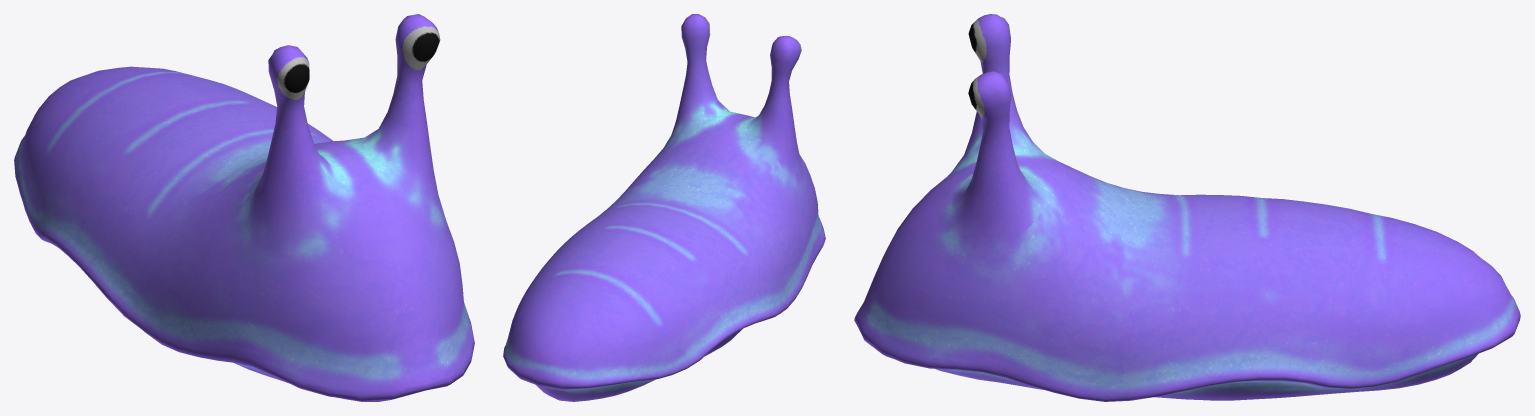
The model's file is Babosa.glb.
3 views of the same model, side by side, from view 1: azimuth 30°, elevation 25°; view 2: azimuth 150°, elevation 25°; view 3: azimuth 270°, elevation 25° (orthographic). The views are drawn at different scales.
Parts seen in each view (by area): view 1: Babosa; view 2: Babosa; view 3: Babosa.
Boxes of the visible parts, box(x1,y1,x2,y2) form: Babosa: box(14, 14, 474, 401); Babosa: box(503, 14, 825, 401); Babosa: box(854, 14, 1520, 401).
Bounding box in the file's own units: 0.0141 × 0.0165 × 0.0311.
Materials: 1 (1 with a texture image).
